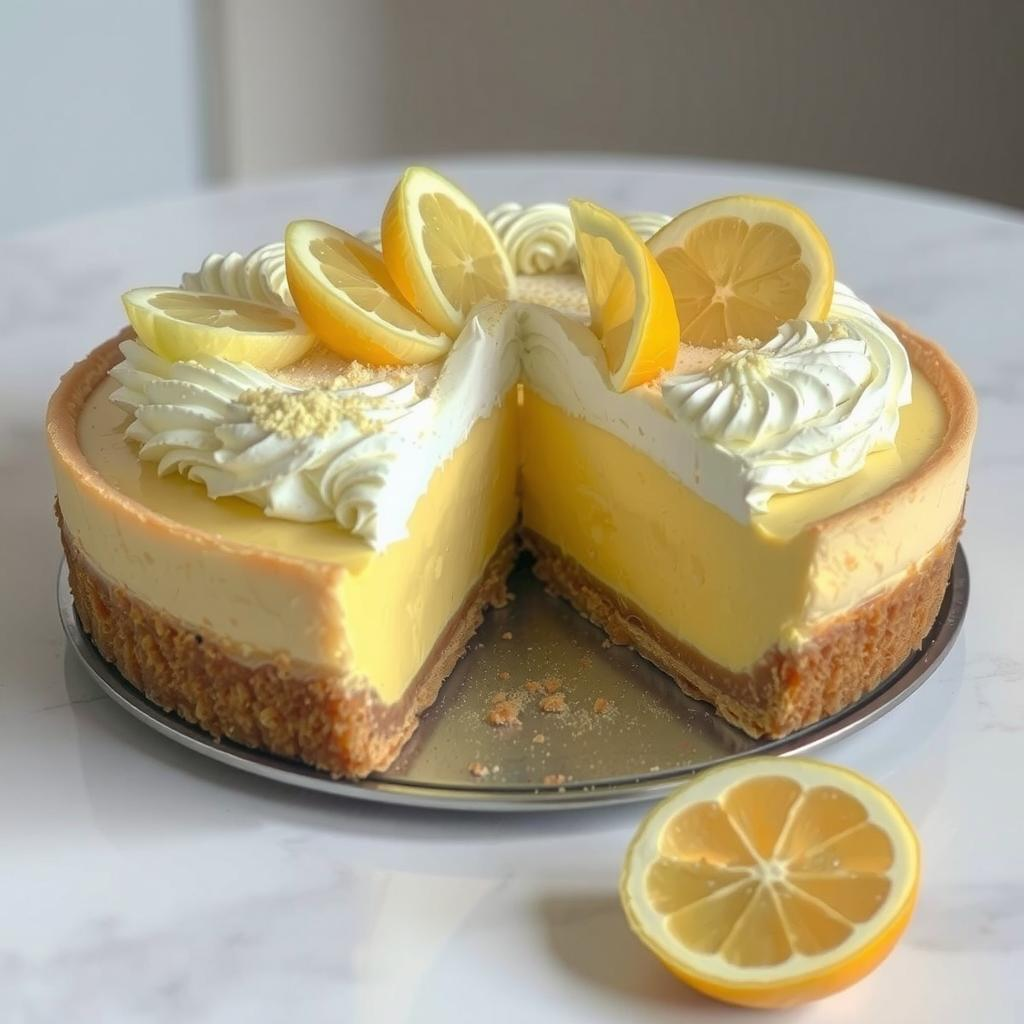cake: (26, 167, 989, 784)
